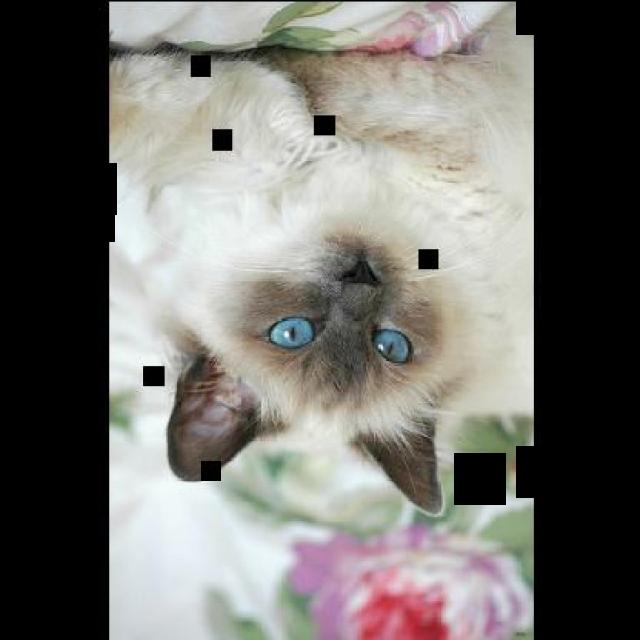unauthorized: (107, 0, 532, 518)
